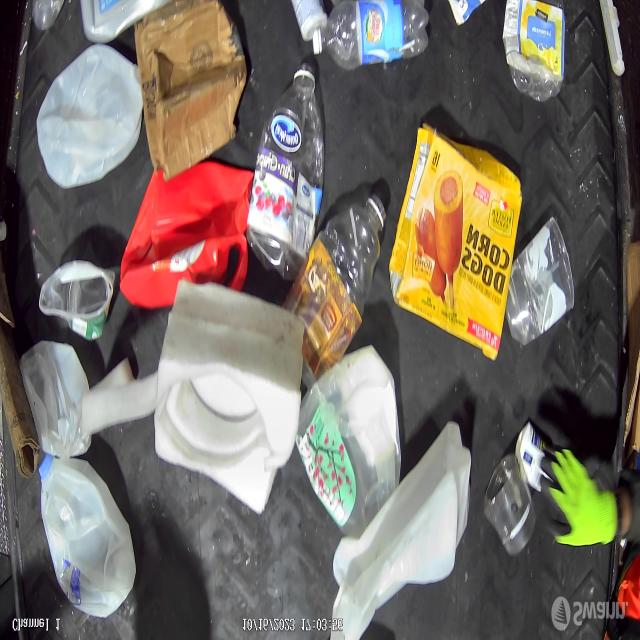milk_jug: (332, 424, 471, 640), (38, 454, 140, 616), (36, 57, 145, 197)
non_white_jug: (118, 164, 255, 326)
plastic_bottle: (294, 188, 394, 377), (249, 76, 322, 278), (313, 0, 433, 73), (502, 0, 576, 105)
